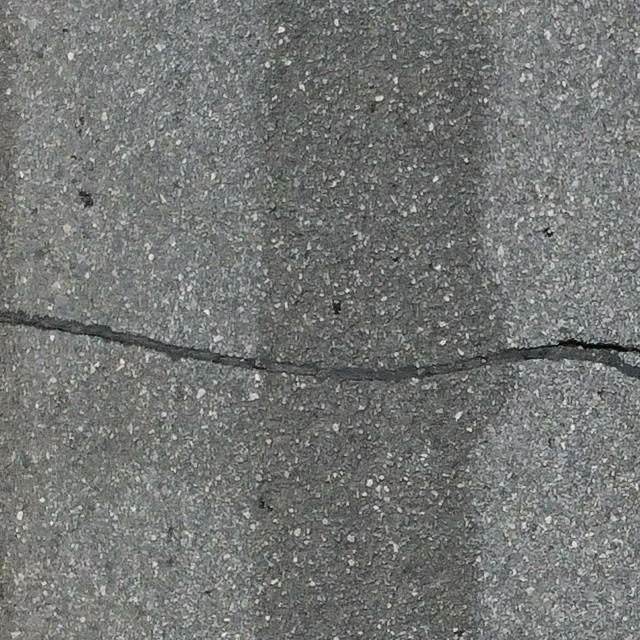TransverseCrack: (1, 310, 640, 378)
